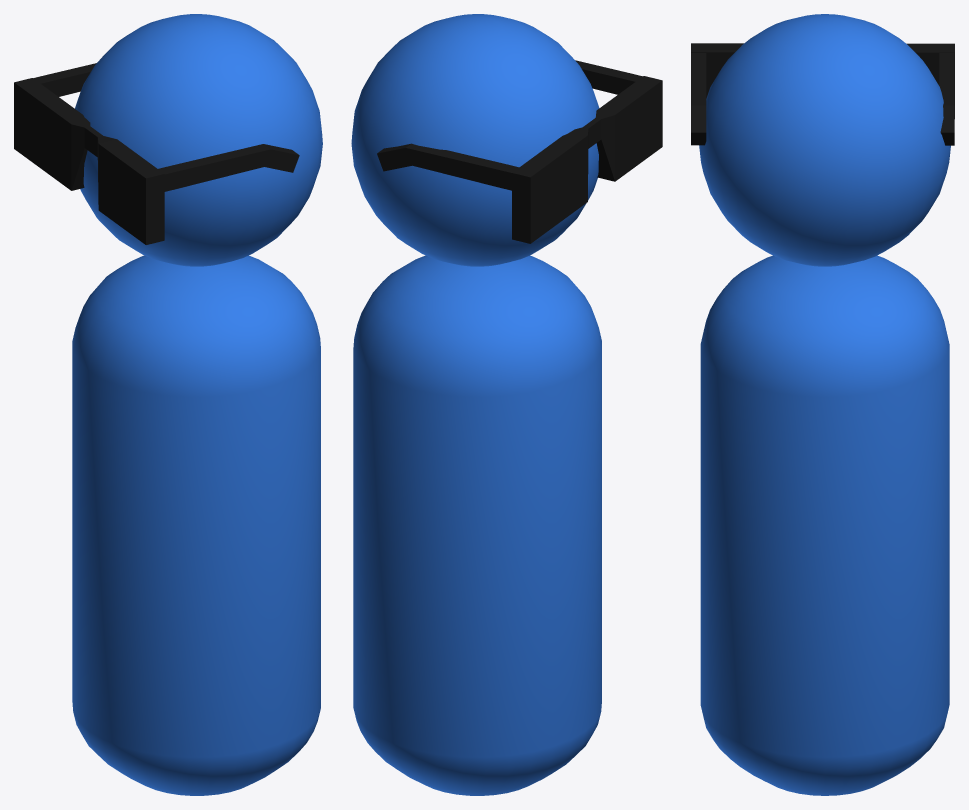
Rendered from personSunGlasses 1.fbx.
The picture shows the model from 3 angles, left to right: view 1: azimuth 30°, elevation 25°; view 2: azimuth 150°, elevation 25°; view 3: azimuth 270°, elevation 25°; orthographic projection.
Parts seen in each view (by area): view 1: Sphere.001; view 2: Sphere.001; view 3: Sphere.001.
Boxes of the visible parts, x1,y1,x2,y2 form: Sphere.001: [14, 14, 322, 795]; Sphere.001: [351, 14, 662, 795]; Sphere.001: [691, 14, 954, 795].
Bounding box in the file's own units: 56.59 × 180 × 56.91.
